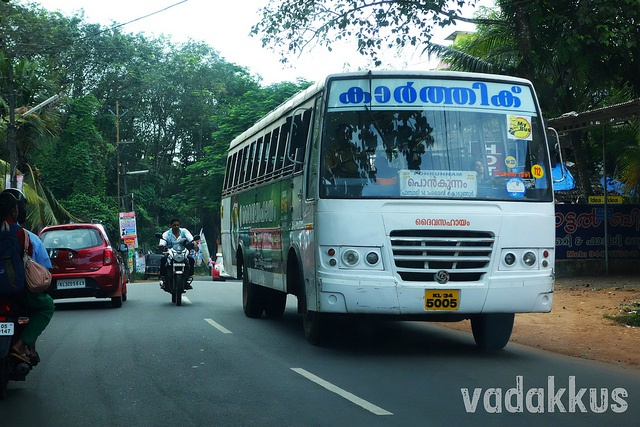non-vehicle: (154, 231, 205, 301), (0, 300, 28, 385)
